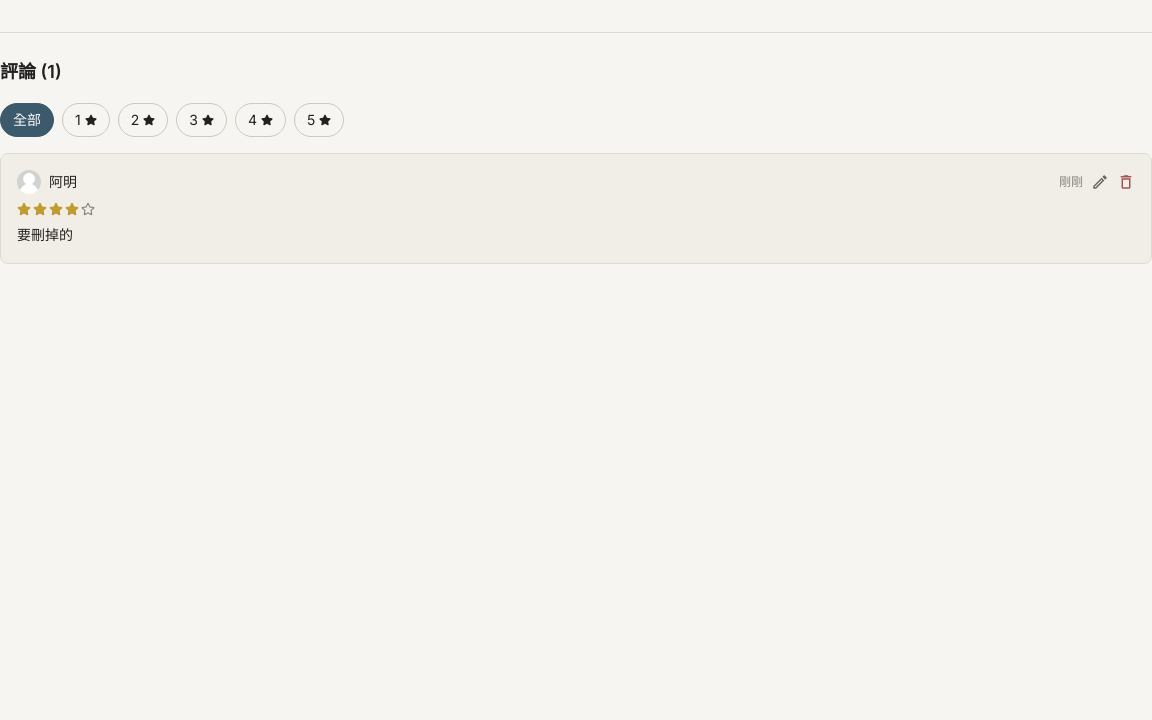
Test case: CommentSection 刪除評論 › 確認後刪除並重新取一次列表——軟刪除的結果由伺服器決定
What coordinates should you click on to do the following:
click the button named "刪除評論"
I would click on:
 (1126, 182)
Its box is [1117, 173, 1135, 191].
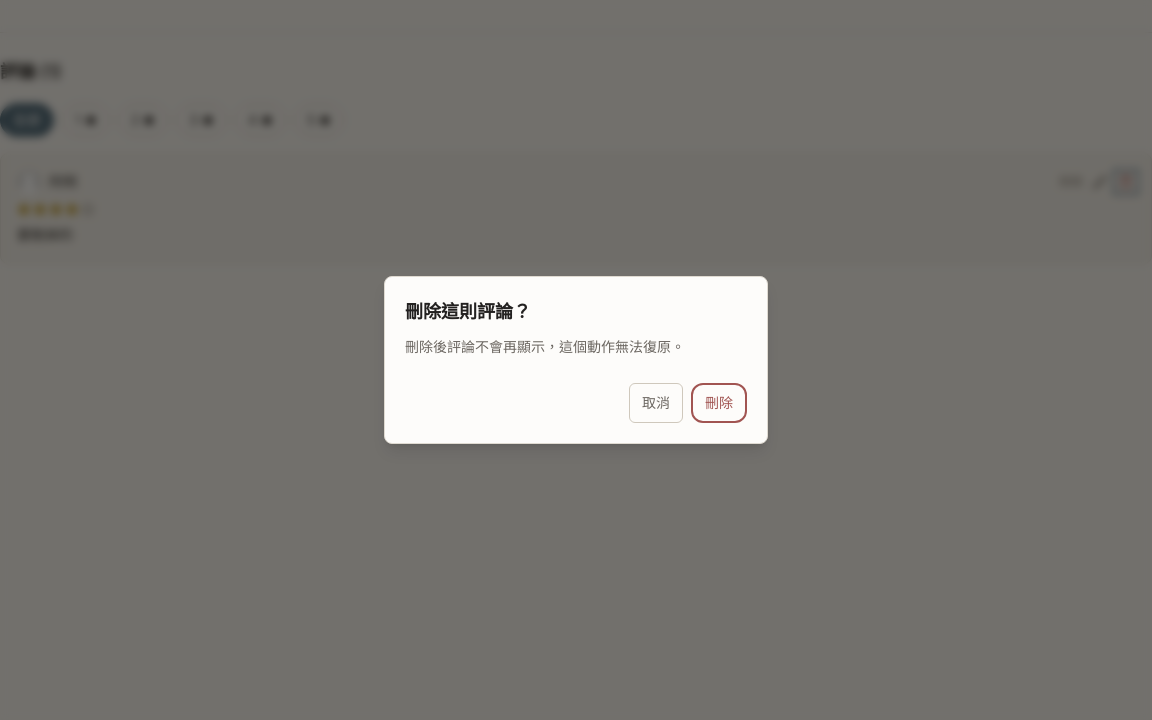
What coordinates should you click on to do the following:
click the button "刪除"
I would click on:
 (719, 403)
Its box is [691, 383, 747, 423].
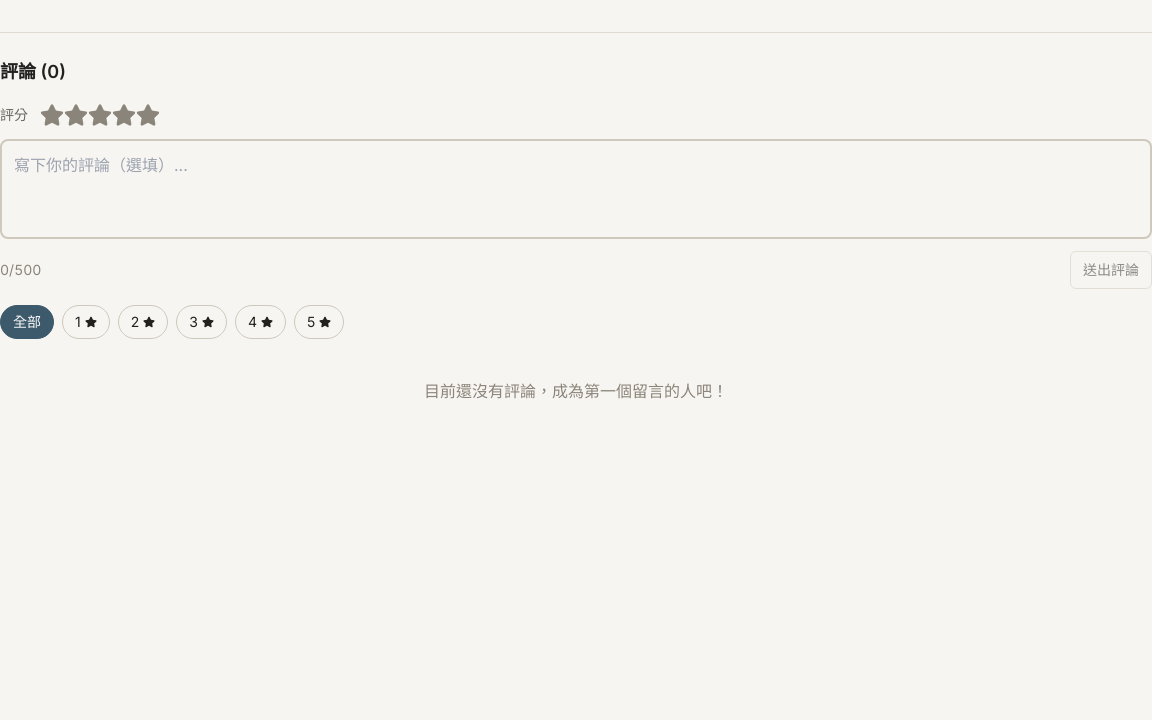
Expected: the text "要刪掉的" is gone
